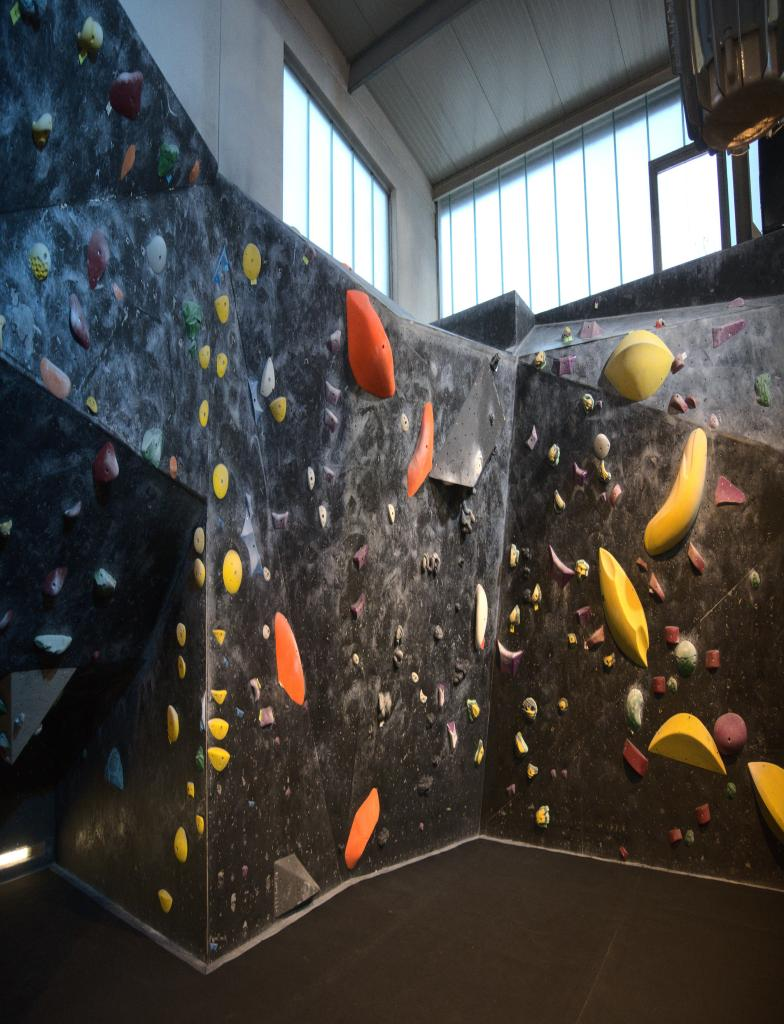crimp: (40, 358, 71, 399), (141, 428, 162, 468), (243, 243, 261, 281), (212, 245, 228, 283), (261, 358, 275, 396), (270, 397, 286, 422), (353, 544, 368, 570), (325, 381, 341, 405), (214, 296, 228, 322), (573, 462, 588, 486), (350, 593, 364, 618), (327, 328, 341, 353), (324, 409, 339, 432), (216, 352, 227, 377), (211, 689, 226, 704), (318, 505, 327, 527), (323, 466, 335, 482), (213, 629, 225, 645), (307, 466, 315, 489), (636, 557, 648, 571), (400, 413, 409, 431), (388, 503, 395, 524), (187, 781, 194, 797)
downhold: (146, 235, 167, 273), (594, 433, 610, 459)
jib: (86, 396, 97, 414), (750, 570, 759, 589), (262, 624, 270, 639), (263, 566, 270, 581), (352, 652, 359, 664), (420, 689, 426, 702), (412, 672, 419, 683)
jug: (109, 71, 143, 119), (88, 228, 109, 290), (77, 16, 103, 62), (69, 293, 90, 349), (93, 442, 118, 482), (32, 113, 52, 151), (42, 567, 67, 597), (31, 242, 50, 280), (158, 142, 179, 176), (460, 500, 476, 533), (94, 568, 116, 592), (167, 705, 179, 744), (452, 660, 469, 685), (378, 692, 392, 719), (598, 460, 612, 483), (64, 500, 81, 518), (548, 444, 560, 466), (554, 489, 565, 513), (533, 350, 546, 370), (199, 346, 210, 368), (249, 678, 260, 700), (582, 393, 594, 413), (199, 400, 208, 426), (510, 543, 519, 567), (304, 243, 316, 260), (393, 648, 403, 668), (510, 605, 520, 625), (490, 353, 500, 371), (432, 552, 440, 574), (561, 326, 572, 342), (434, 625, 443, 641), (396, 625, 403, 644)
ledge: (644, 428, 707, 555), (649, 713, 726, 775), (345, 788, 379, 869), (549, 545, 575, 588), (497, 640, 522, 677), (34, 635, 72, 654), (578, 321, 605, 340), (554, 355, 575, 375), (466, 698, 480, 719), (526, 425, 537, 450), (532, 583, 541, 609)
pinch: (623, 739, 648, 777), (688, 541, 704, 574), (649, 572, 665, 602), (587, 625, 604, 649), (668, 393, 688, 413), (706, 649, 720, 670), (610, 484, 622, 507), (665, 626, 680, 644), (671, 354, 684, 374), (653, 676, 665, 694), (685, 394, 696, 408), (662, 681, 662, 682)
sidepull: (599, 548, 648, 666), (346, 290, 395, 398), (275, 613, 304, 704), (408, 402, 433, 497), (241, 506, 262, 578), (475, 584, 487, 650), (248, 378, 262, 423)
sloper: (606, 330, 674, 400), (714, 713, 747, 756), (675, 639, 696, 677), (174, 826, 187, 862)
tape: (9, 2, 21, 25), (106, 101, 112, 116), (167, 173, 172, 183), (251, 277, 257, 285), (682, 351, 687, 359), (303, 257, 308, 264), (534, 604, 538, 610), (510, 626, 514, 631)
undercling: (715, 476, 745, 505), (260, 706, 274, 727)
volume: (430, 360, 505, 487), (0, 667, 75, 764), (274, 854, 320, 917)
